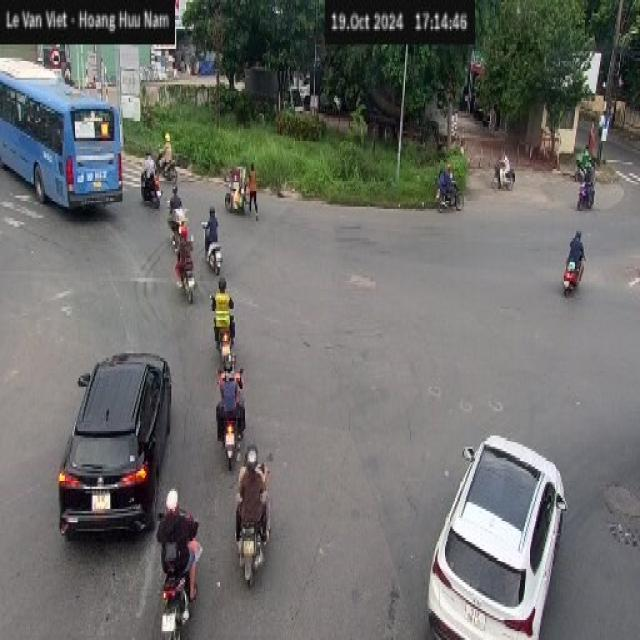bus: (0, 47, 125, 220)
car: (426, 428, 569, 640), (56, 343, 177, 540)
motorcycle: (235, 530, 271, 588), (156, 582, 190, 640), (222, 420, 238, 472), (141, 179, 164, 212), (215, 331, 235, 362)
person: (161, 484, 191, 582), (241, 442, 265, 524), (214, 276, 234, 333)
